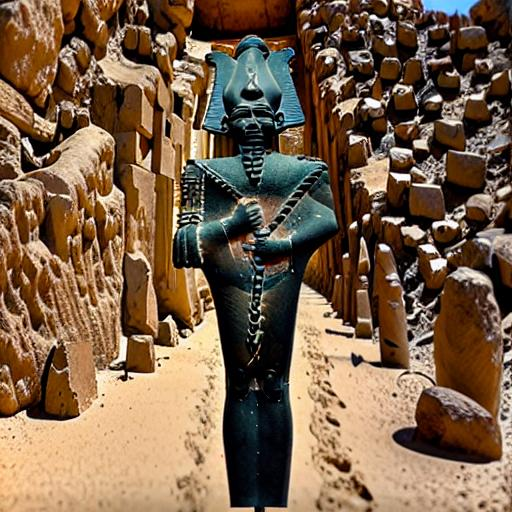Statue of Osiris: (173, 32, 342, 508)
